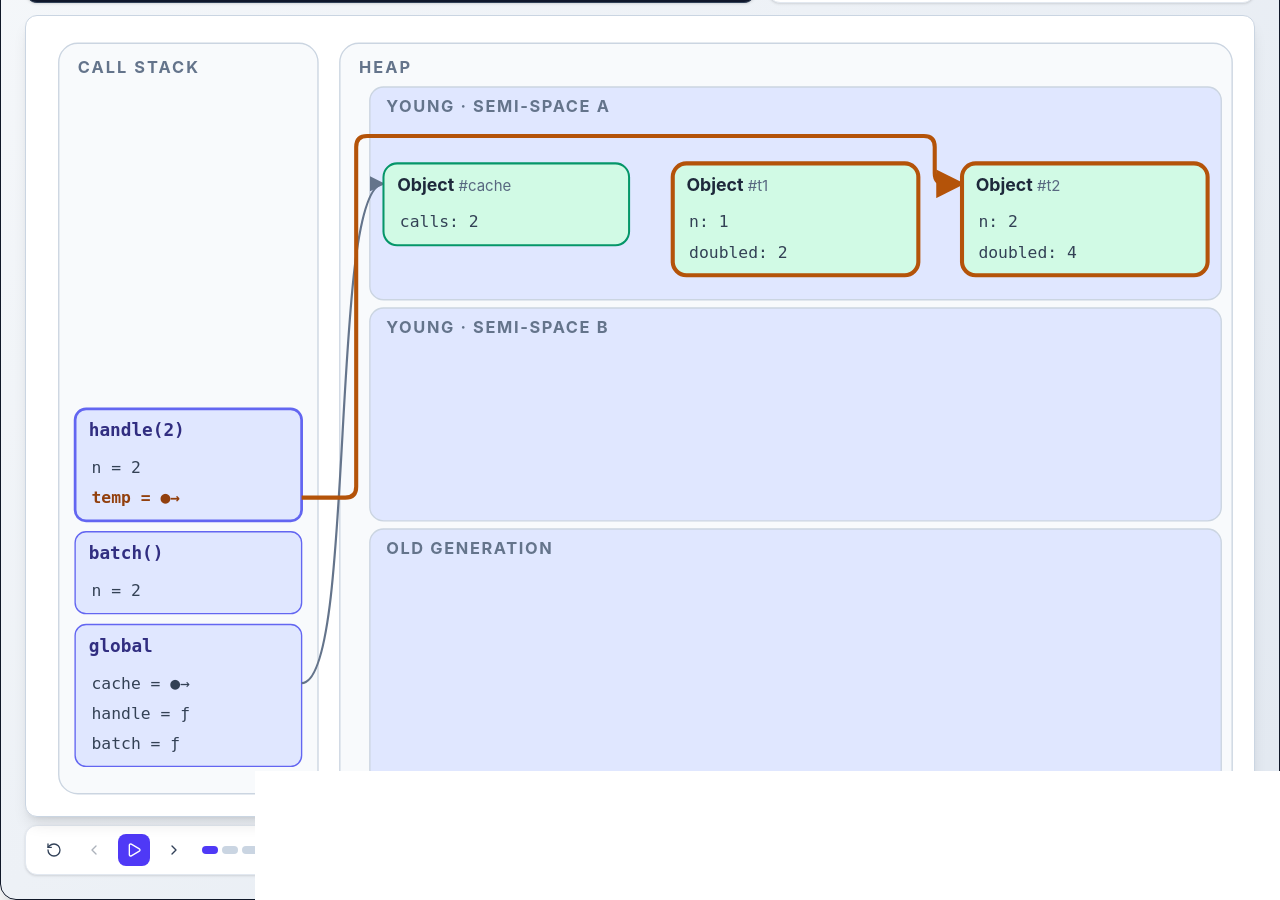
Test: GenerationalCollectionStory › starts in 2D on beat 1 and steps forward and back
The width and height of the screenshot is (1280, 900).
(page scrolled)
Expected: the button named "Previous beat" is disabled, [78,834,110,866]
Step 1. Click the button named "Next beat" → x=174, y=850, box [158,834,190,866]
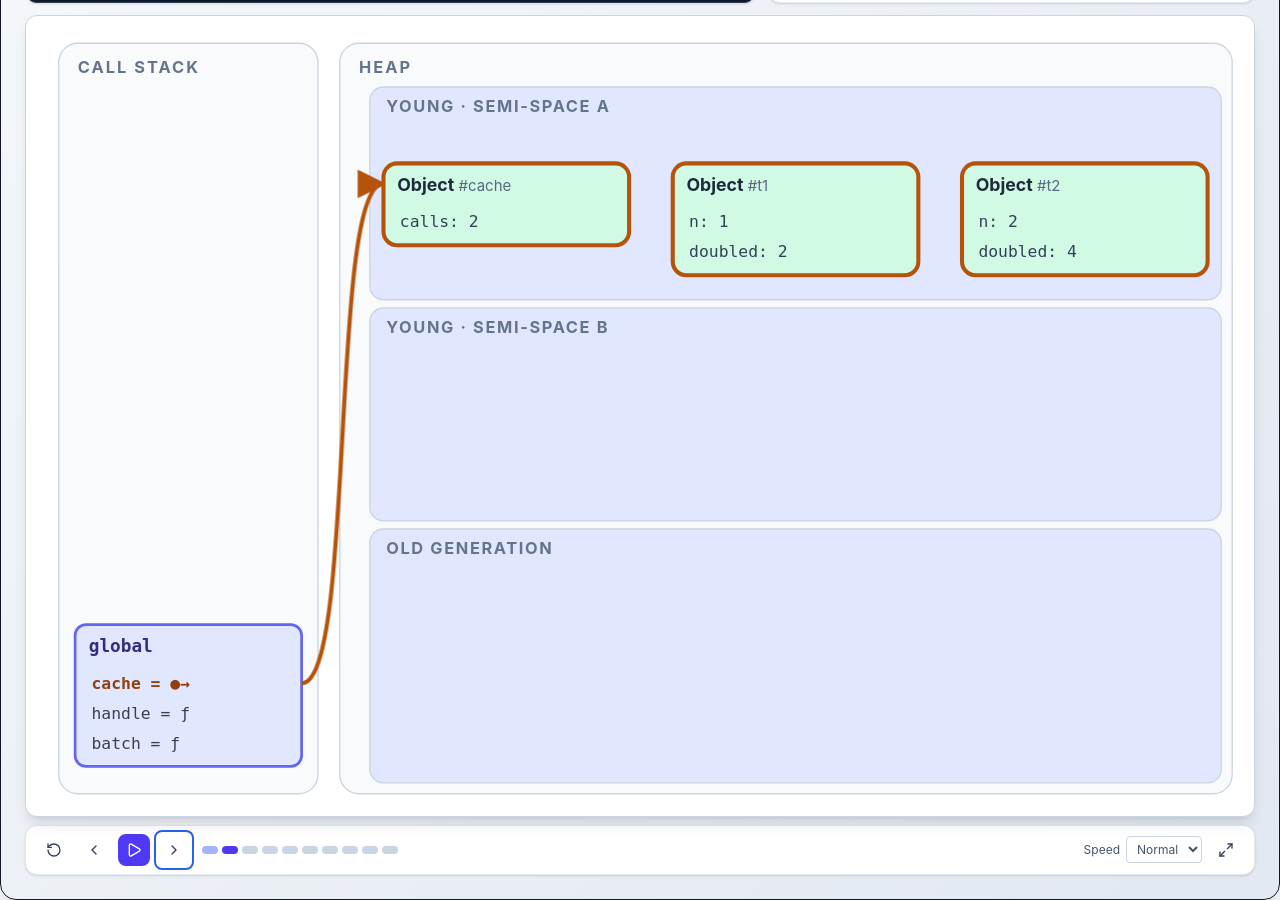
Step 2. Click the button named "Previous beat" → x=94, y=850, box [78,834,110,866]
(page scrolled)
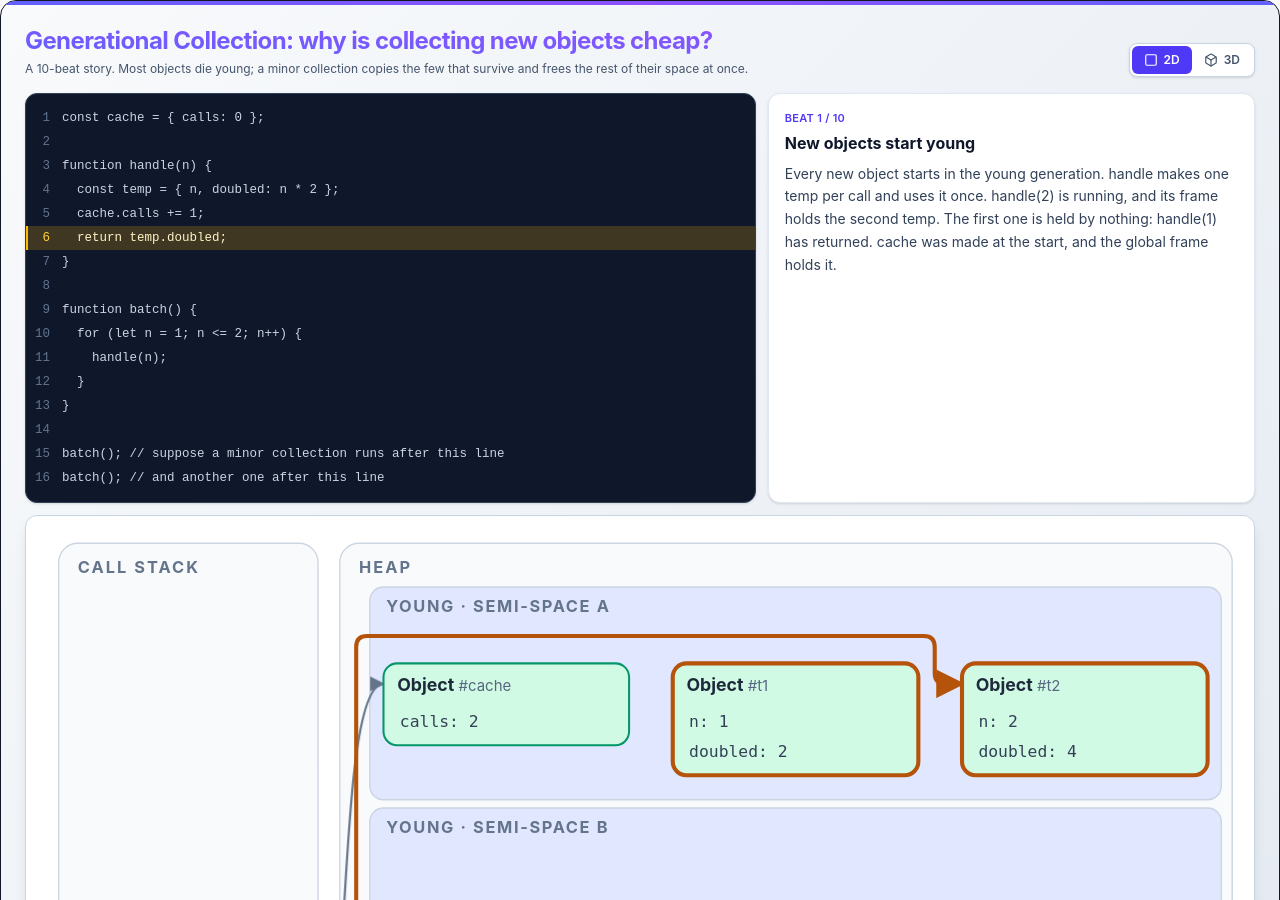
Now the heading "New objects start young" is shown, box [785,132,975,152]
